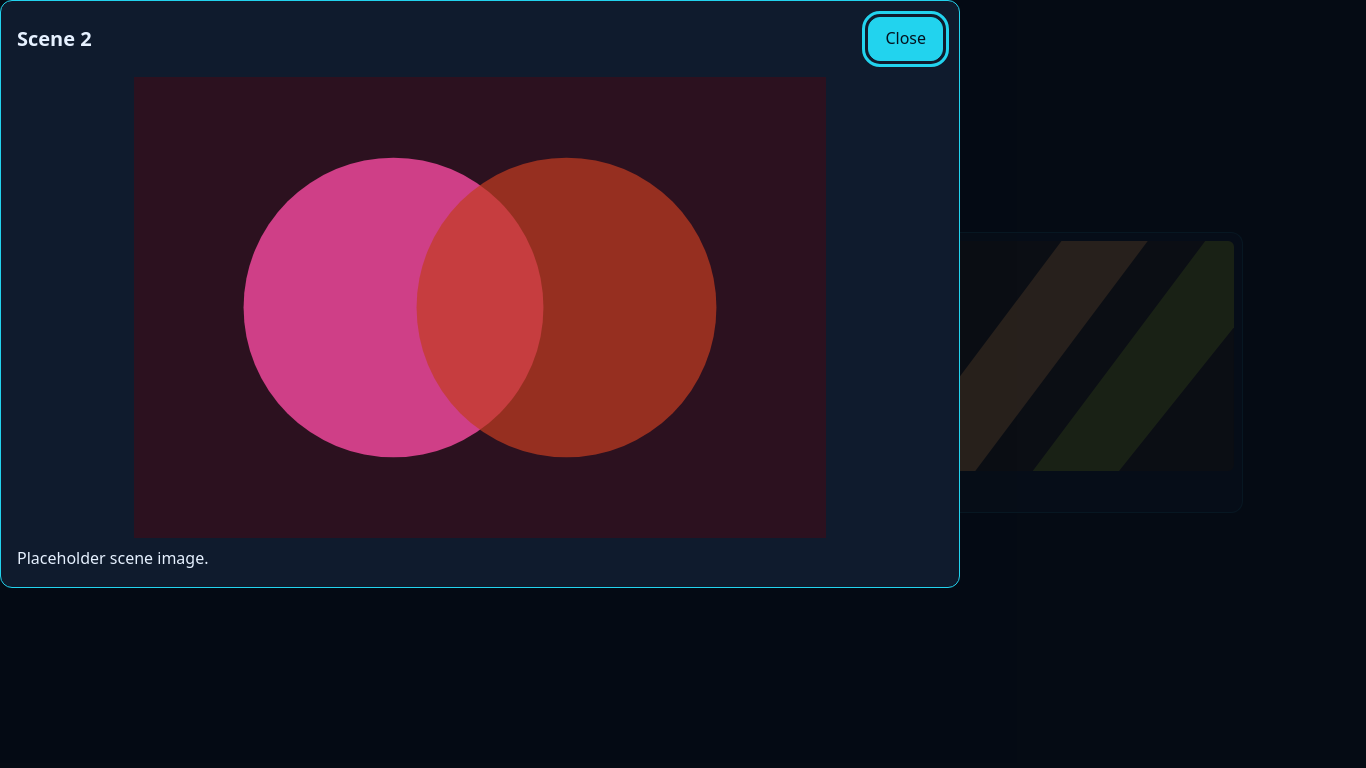
Test: PhotoGalleryLayout native <dialog> (URL driven) › keeps the category and removes only photoId when the Close button is used
Click the button "Close".
click(906, 39)  # box x1=868 y1=17 x2=943 y2=61
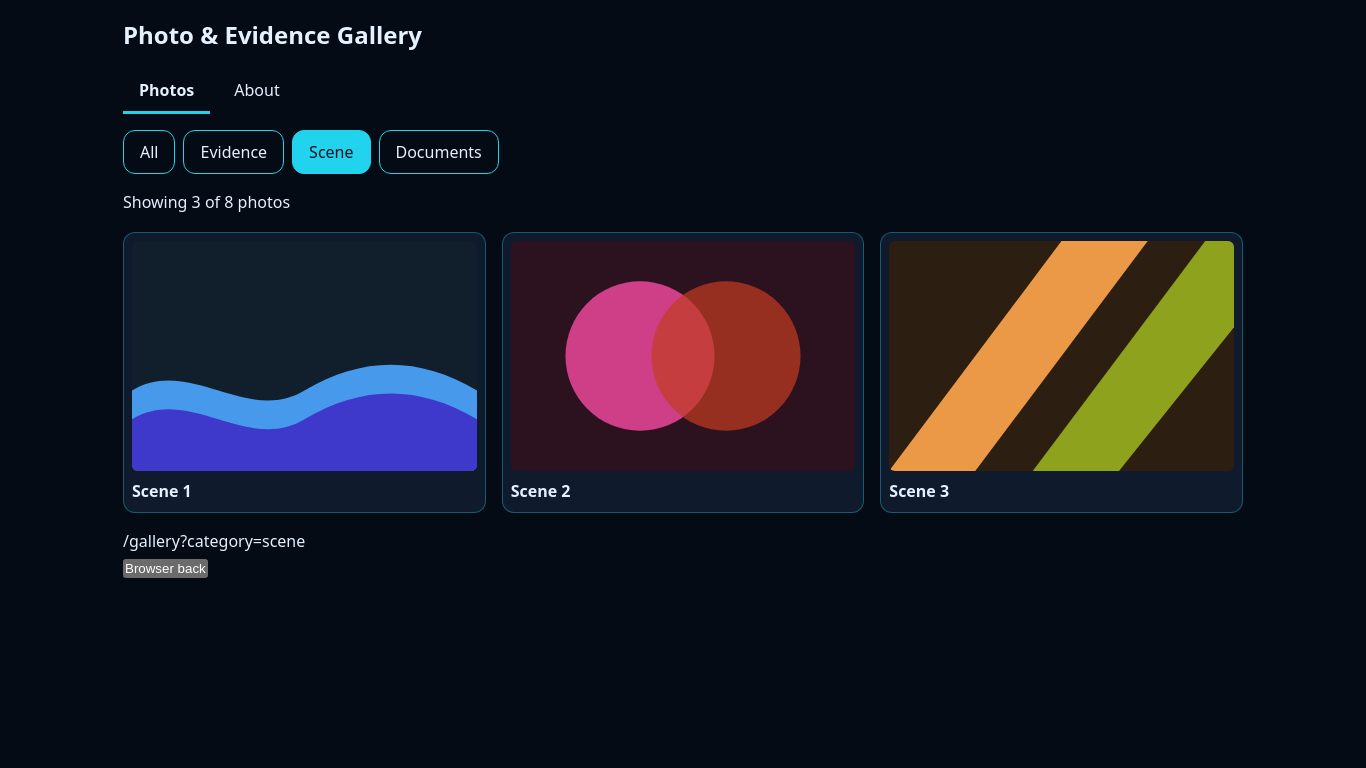
Now the text with test id "url" reads "/gallery?category=scene", box x1=123 y1=530 x2=305 y2=552
